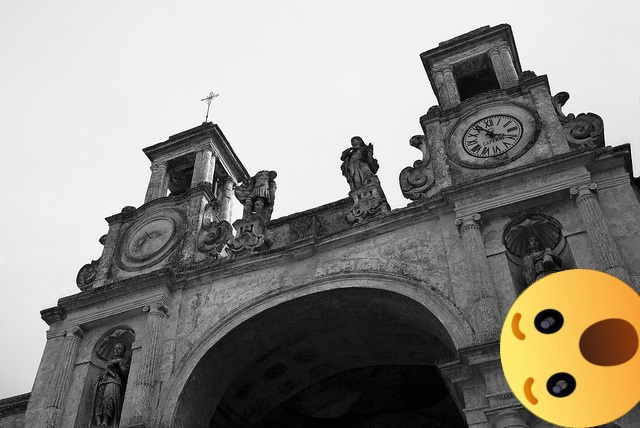wow: (500, 269, 640, 428)
